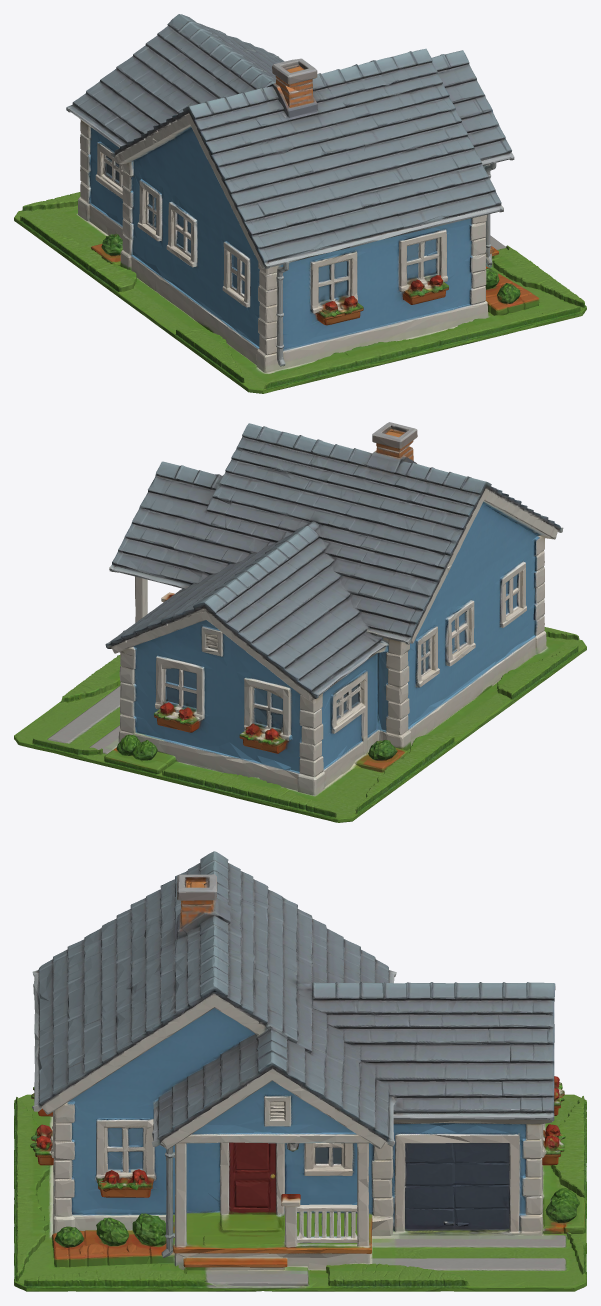
The model's file is house_e.glb.
The picture shows the model from 3 angles, top to bottom: view 1: azimuth 30°, elevation 25°; view 2: azimuth 150°, elevation 25°; view 3: azimuth 270°, elevation 25°; orthographic projection. The views are drawn at different scales.
Parts seen in each view (by area): view 1: tripo_node_2d76a412-0d1b-4195-a901-b2b488b11923; view 2: tripo_node_2d76a412-0d1b-4195-a901-b2b488b11923; view 3: tripo_node_2d76a412-0d1b-4195-a901-b2b488b11923.
Part boxes in pixels (box(x1,y1,x2,y2)): tripo_node_2d76a412-0d1b-4195-a901-b2b488b11923: box(14, 14, 586, 393); tripo_node_2d76a412-0d1b-4195-a901-b2b488b11923: box(14, 422, 586, 822); tripo_node_2d76a412-0d1b-4195-a901-b2b488b11923: box(14, 851, 586, 1291).
Bounding box in the file's own units: 0.7982 × 0.5485 × 1.
1 material, 1 textured.
